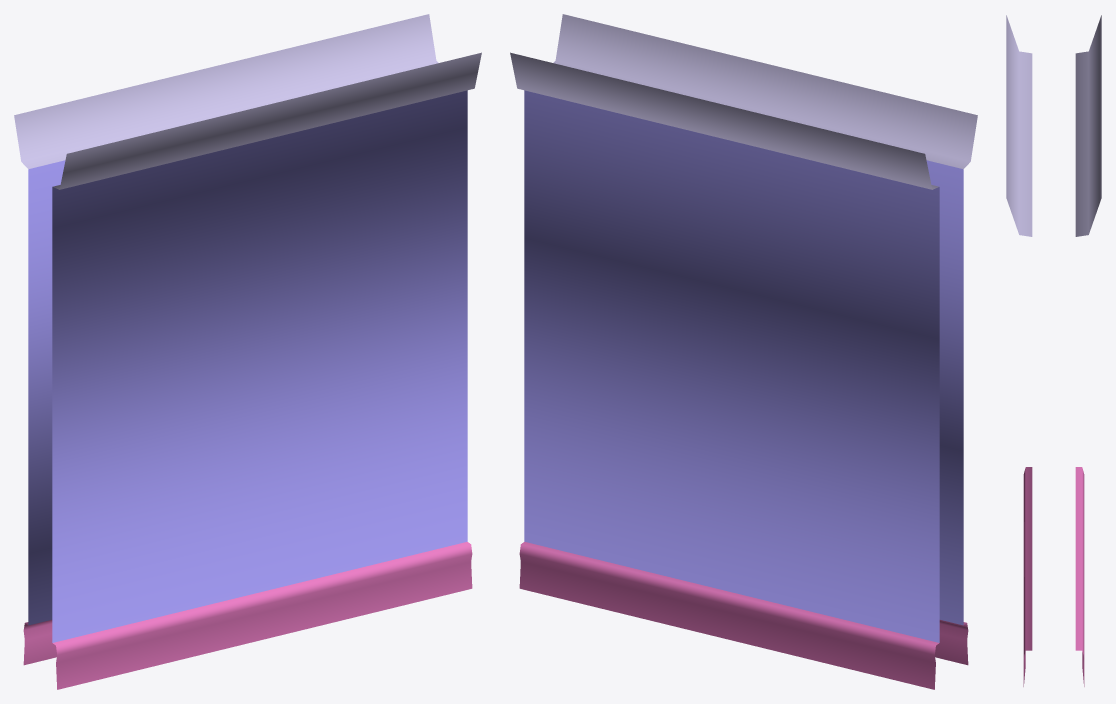
The model's file is plain_wall.glb.
3 views of the same model, side by side, from view 1: azimuth 30°, elevation 25°; view 2: azimuth 150°, elevation 25°; view 3: azimuth 270°, elevation 25° (orthographic). The views are drawn at different scales.
Parts seen in each view (by area): view 1: Wall; view 2: Wall; view 3: Wall.
Part boxes in pixels (left/top/right/bottom): Wall: left=14, top=14, right=481, bottom=689; Wall: left=510, top=14, right=977, bottom=689; Wall: left=1006, top=15, right=1101, bottom=686.
Size of the model in its own units: 2 by 2.5 by 0.44.
